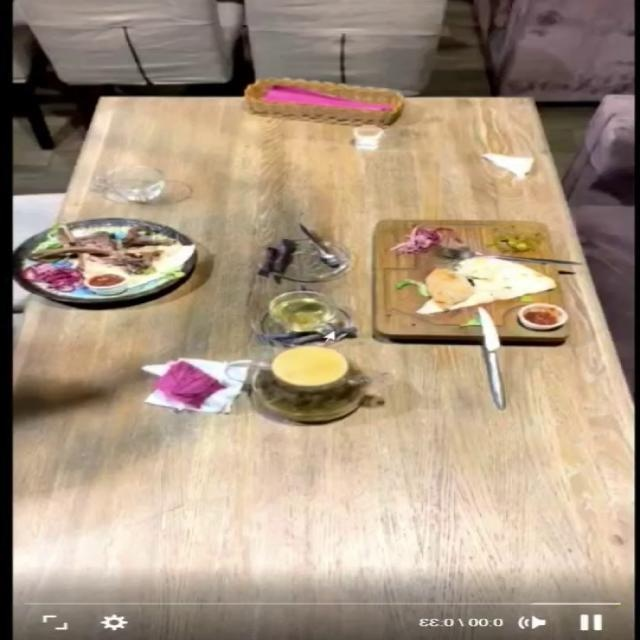meat: (0, 200, 222, 318), (369, 219, 568, 342)
tea: (256, 345, 370, 421)
